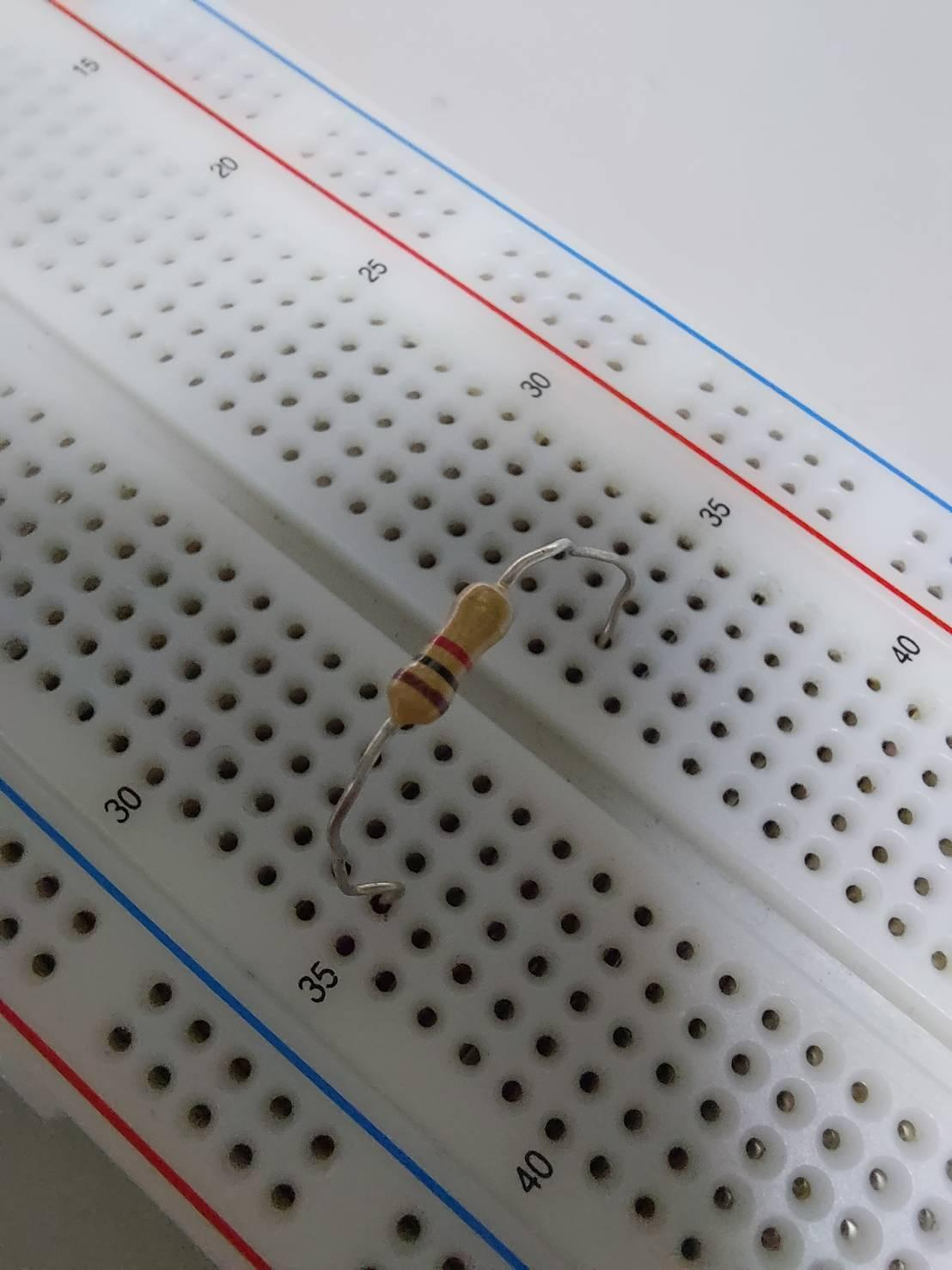resistor: (362, 554, 519, 737)
